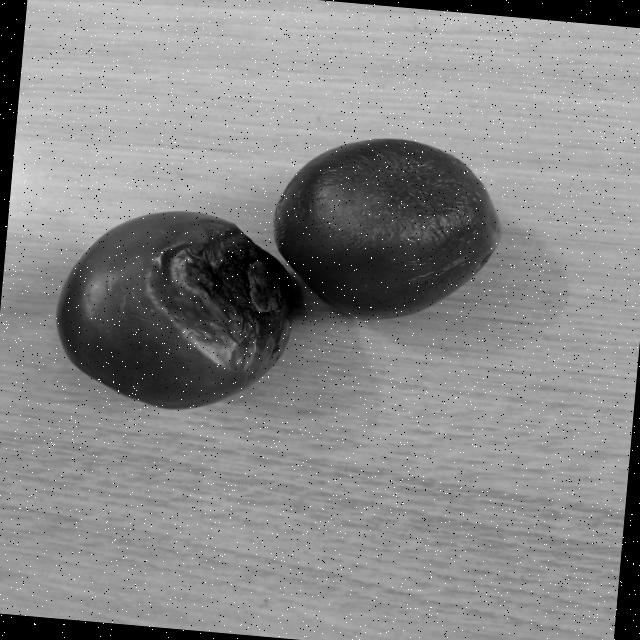Rotten: (44, 199, 300, 419)
overripe: (264, 128, 506, 329)
